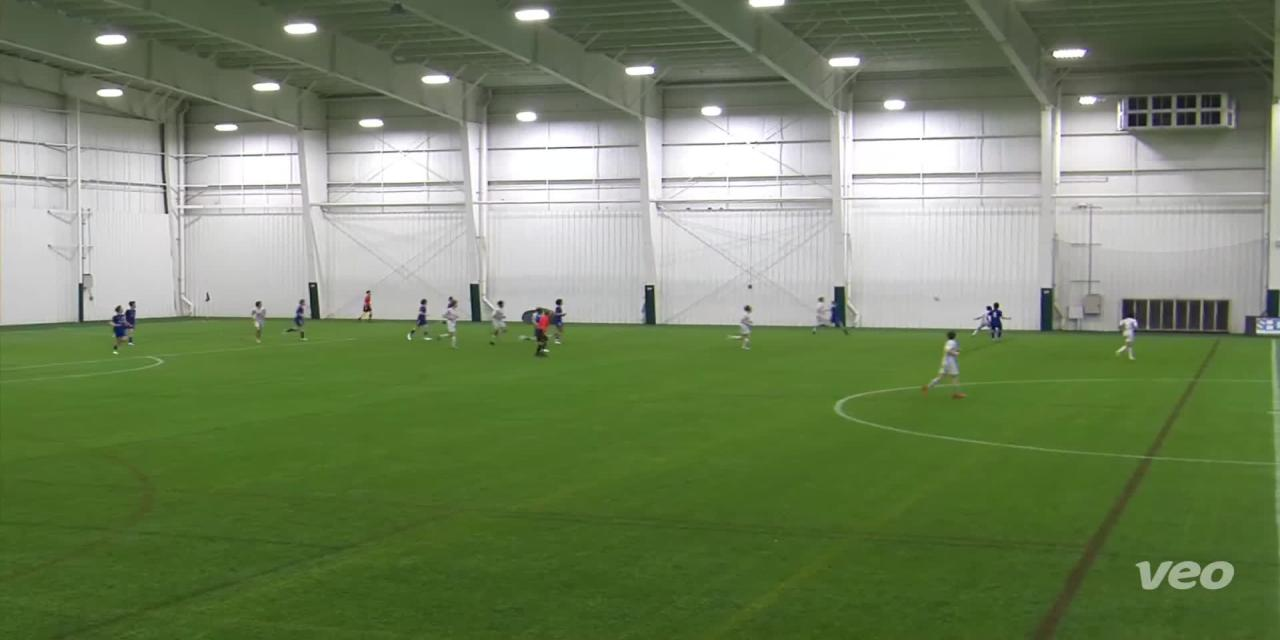sports ball: (930, 292, 944, 306)
